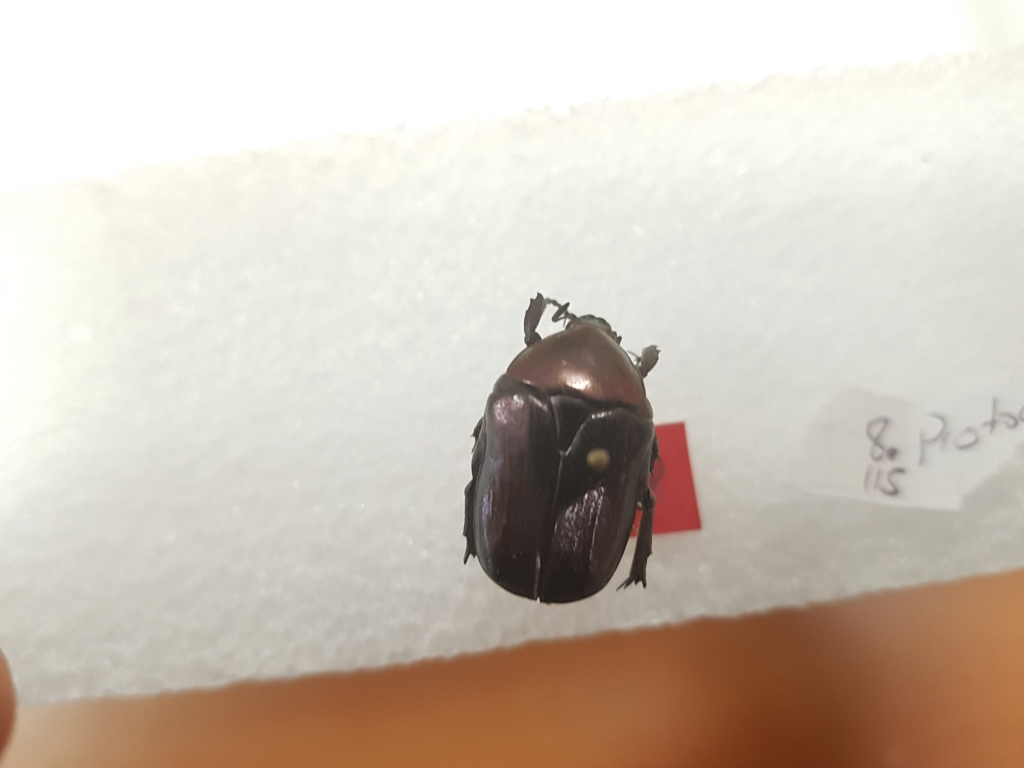Protaetia_besucheti: (453, 286, 682, 604)
